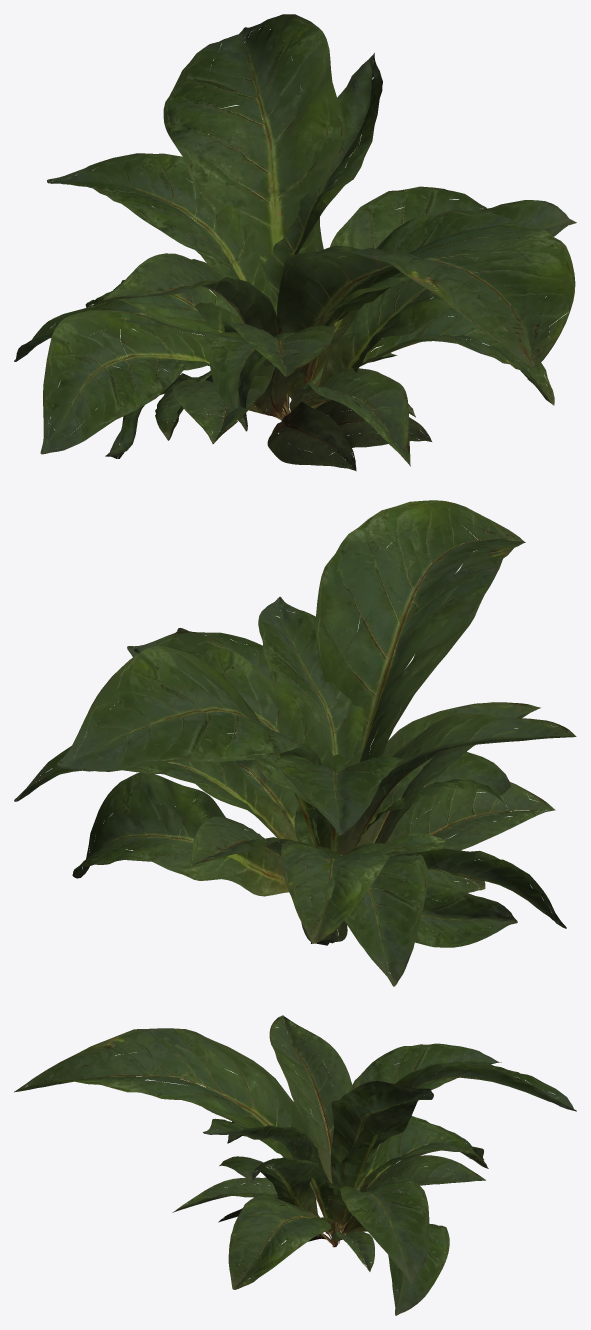
File: anthurium.glb
3 views of the same model, one above another, from view 1: azimuth 30°, elevation 25°; view 2: azimuth 150°, elevation 25°; view 3: azimuth 270°, elevation 25° (orthographic). The views are drawn at different scales.
Visible parts, largest first — view 1: anthurium_a, anthurium_b, anthurium_c; view 2: anthurium_a, anthurium_b, anthurium_c; view 3: anthurium_a, anthurium_b, anthurium_c.
Boxes of the visible parts, bbox=[...] form: anthurium_a: bbox=[40, 14, 575, 466]; anthurium_b: bbox=[14, 53, 519, 471]; anthurium_c: bbox=[47, 153, 576, 447]; anthurium_a: bbox=[14, 500, 566, 943]; anthurium_b: bbox=[72, 596, 576, 986]; anthurium_c: bbox=[175, 628, 540, 870]; anthurium_a: bbox=[14, 1028, 576, 1289]; anthurium_b: bbox=[203, 1015, 483, 1315]; anthurium_c: bbox=[203, 1043, 501, 1271].
Size of the model in its own units: 0.8962 by 0.4997 by 1.14.
Materials: 3 (3 with a texture image).
